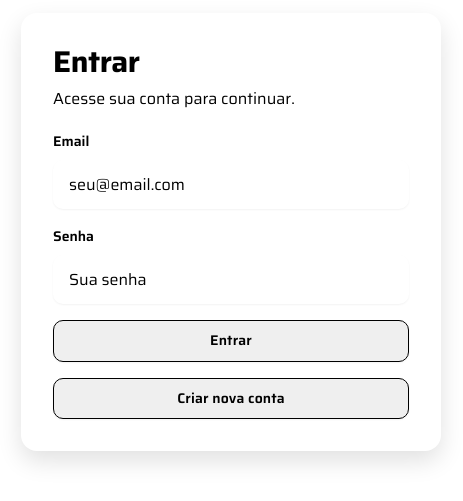
Login › mostra feedback quando campos obrigatorios nao sao preenchidos
Click the button "Entrar".
click(231, 341)  # box [53,320,409,362]
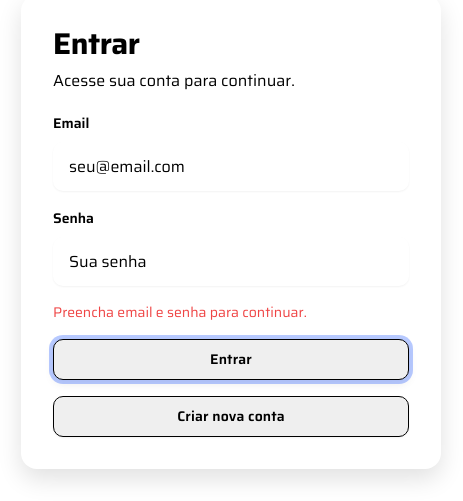
Check: the text "Preencha email e senha para continuar." is shown, box [53,301,307,323]
